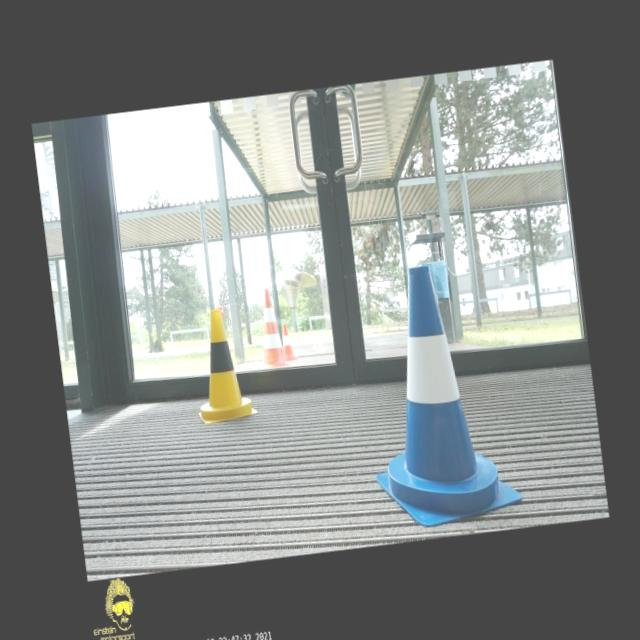blue_cone: (350, 257, 524, 530)
large_orange_cone: (253, 286, 286, 370)
orange_cone: (279, 324, 296, 361)
yellow_cone: (185, 306, 258, 424)
